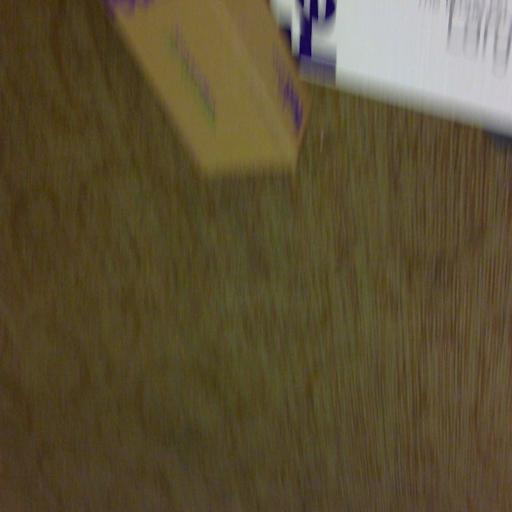Amazon: (283, 0, 512, 120)
